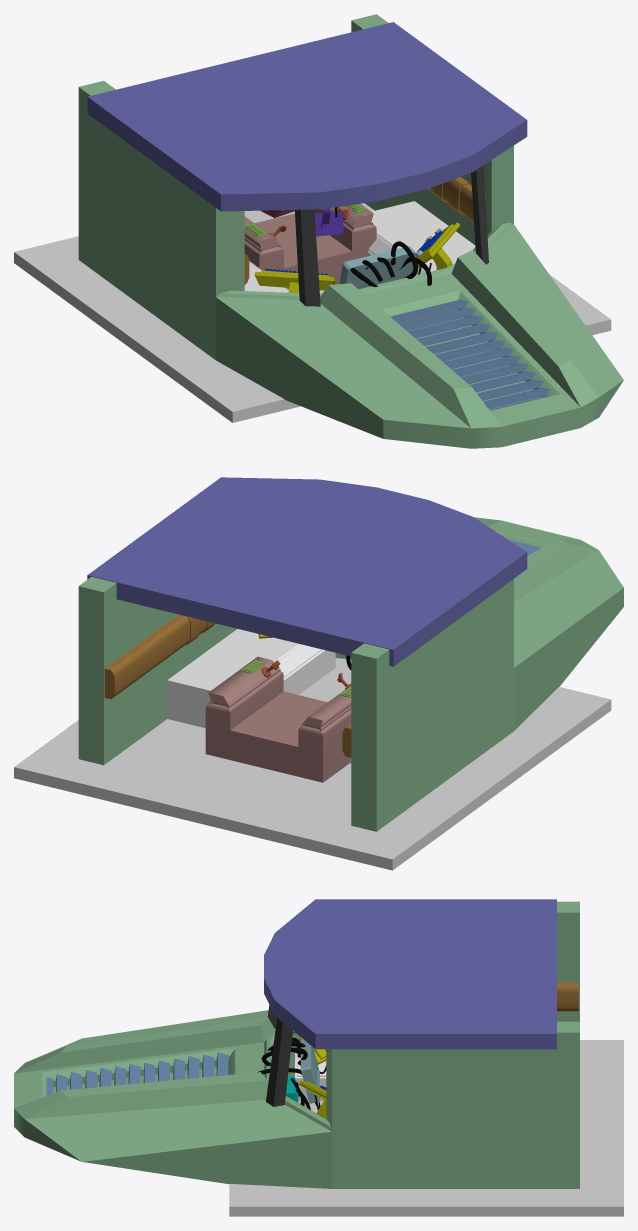
Rendered from CockPit.fbx.
3 renders of one model, top to bottom at view 1: azimuth 30°, elevation 25°; view 2: azimuth 150°, elevation 25°; view 3: azimuth 270°, elevation 25°, orthographic. The views are drawn at different scales.
Visible parts, largest first — view 1: pCube23, pCube38, pCube42, pCube59, pCube97, pCube91, tableau_de_bord1_pCube47, pCube94, pCube44, pCube96, pCube32, pCube45 (+10 smaller); view 2: pCube23, pCube38, pCube42, pCube59, pCube97, pCube96; view 3: pCube23, pCube38, pCube42, pCube44, pCube94, pCube93, tableau_de_bord1_pCube47.
Part boxes in pixels (box(x1,y1,x2,y2)): pCube23: box(78, 14, 623, 448); pCube38: box(87, 22, 527, 211); pCube42: box(14, 203, 611, 422); pCube59: box(244, 204, 376, 289); pCube97: box(244, 201, 475, 292); pCube91: box(294, 209, 320, 306); tableau_de_bord1_pCube47: box(254, 222, 459, 292); pCube94: box(339, 246, 416, 289); pCube44: box(471, 165, 488, 264); pCube96: box(427, 177, 485, 223); pCube32: box(390, 299, 468, 323); pCube45: box(314, 208, 343, 236); pCube23: box(78, 517, 623, 831); pCube38: box(87, 477, 527, 666); pCube42: box(14, 658, 611, 870); pCube59: box(205, 656, 351, 782); pCube97: box(167, 629, 351, 763); pCube96: box(104, 614, 214, 699); pCube23: box(14, 901, 579, 1188); pCube38: box(264, 899, 556, 1049); pCube42: box(229, 1040, 623, 1216); pCube44: box(266, 1018, 292, 1106); pCube94: box(300, 1039, 319, 1103); pCube93: box(557, 982, 578, 1011); tableau_de_bord1_pCube47: box(299, 1038, 326, 1118).
Bounding box in the file's own units: 35.7 × 17.33 × 55.17.
